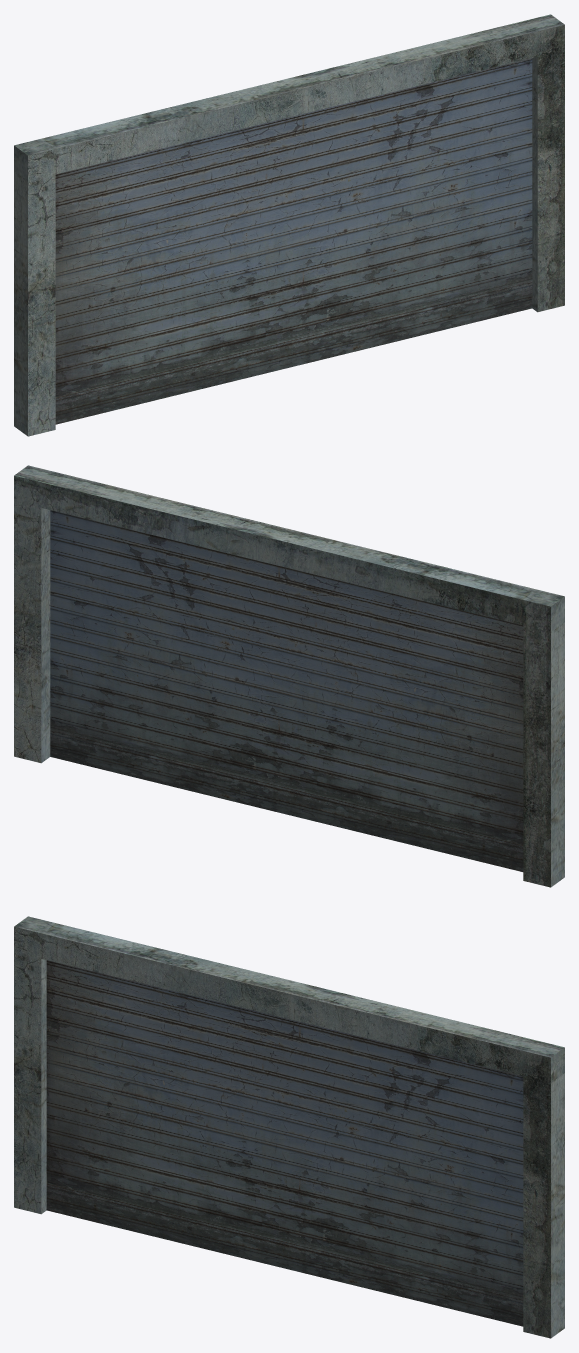
Rendered from Door_01.fbx.
3 renders of one model, top to bottom at view 1: azimuth 30°, elevation 25°; view 2: azimuth 150°, elevation 25°; view 3: azimuth 330°, elevation 25°, orthographic.
Visible parts, largest first — view 1: Door_01_1; view 2: Door_01_1; view 3: Door_01_1.
Boxes of the visible parts, box(x1,y1,x2,y2) form: Door_01_1: box(14, 14, 564, 436); Door_01_1: box(14, 465, 564, 887); Door_01_1: box(14, 916, 564, 1338).
Bounding box in the file's own units: 880 × 440 × 40.
Materials: 1 (1 with a texture image).
